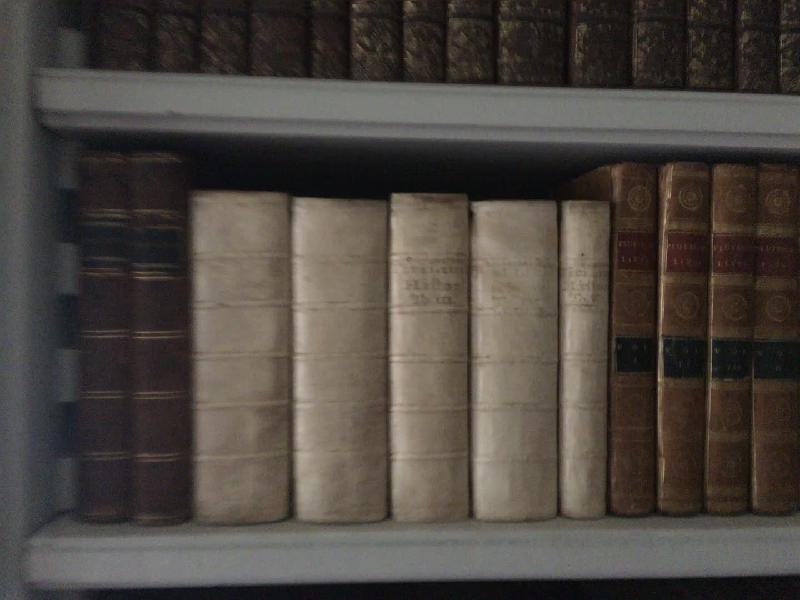Kk4-1_2: (68, 143, 192, 536)
Kk4-3_7: (186, 175, 615, 529)
Kk4-8_13: (607, 153, 800, 527)
